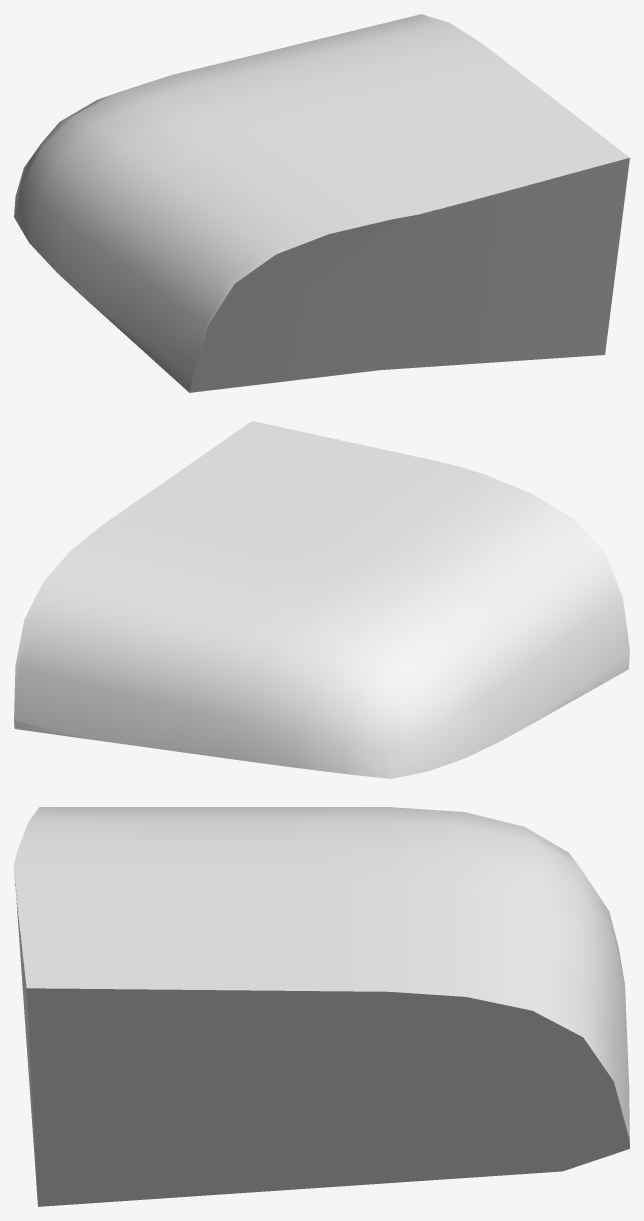
The model's file is Happy_Box11.fbx.
3 renders of one model, top to bottom at view 1: azimuth 30°, elevation 25°; view 2: azimuth 150°, elevation 25°; view 3: azimuth 270°, elevation 25°, orthographic. The views are drawn at different scales.
Visible parts, largest first — view 1: Happy_Box11; view 2: Happy_Box11; view 3: Happy_Box11.
Boxes of the visible parts, x1,y1,x2,y2 form: Happy_Box11: [14, 14, 629, 392]; Happy_Box11: [14, 421, 629, 778]; Happy_Box11: [14, 807, 629, 1206].
Size of the model in its own units: 30.12 by 13.18 by 31.98.
2 materials, 1 textured.
